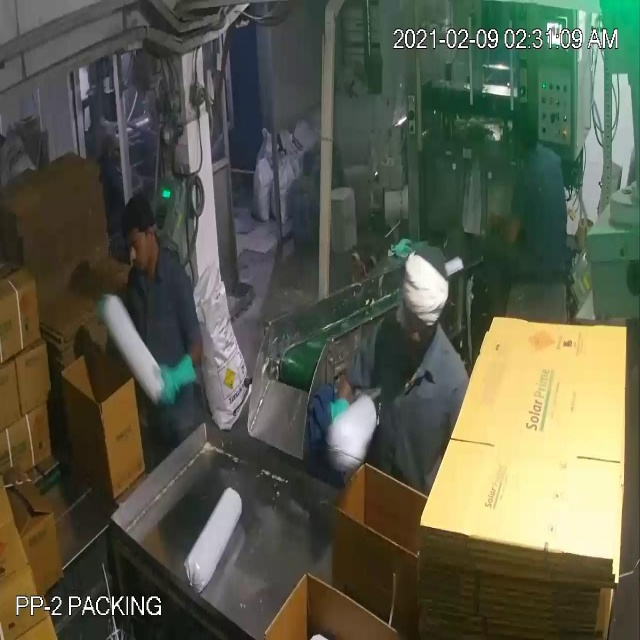Guantes: (141, 340, 202, 416)
Sin_guantes: (478, 181, 533, 245)
